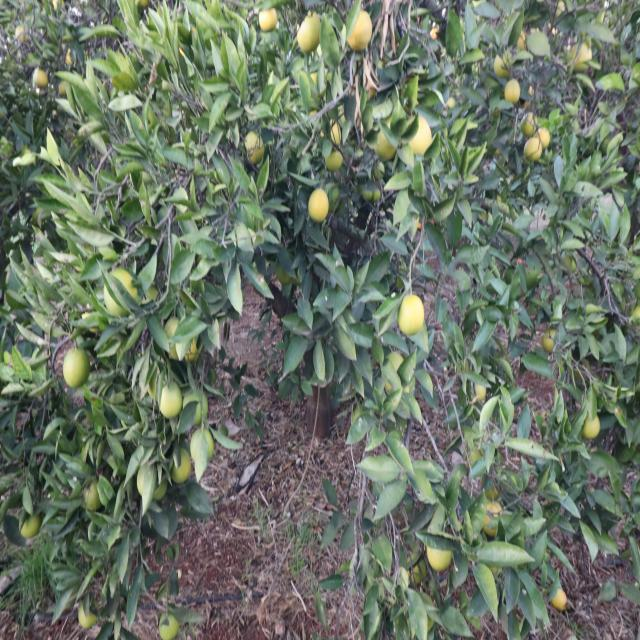Jeruk Belum Matang: (102, 268, 138, 318), (398, 114, 432, 161), (164, 316, 198, 362), (382, 352, 413, 397), (344, 8, 374, 52), (138, 458, 168, 501), (372, 114, 400, 159), (426, 528, 454, 572), (64, 348, 92, 391), (398, 294, 426, 336), (298, 10, 324, 55), (158, 378, 185, 421), (182, 386, 209, 426), (165, 446, 192, 486), (80, 473, 108, 511), (15, 504, 42, 540), (190, 427, 216, 464), (242, 130, 266, 170), (144, 364, 168, 404), (480, 499, 504, 538), (136, 282, 162, 316), (77, 311, 104, 342), (308, 187, 330, 224), (406, 550, 428, 586), (303, 66, 329, 96), (156, 610, 182, 640), (569, 41, 594, 72), (258, 4, 280, 34), (79, 598, 100, 628), (462, 444, 483, 474), (173, 38, 196, 65), (388, 568, 410, 596), (483, 548, 502, 580), (322, 120, 342, 150), (331, 98, 351, 128), (323, 146, 344, 174), (583, 410, 602, 440), (307, 104, 325, 134), (494, 51, 514, 78), (524, 134, 542, 164), (520, 109, 538, 138), (542, 326, 560, 354), (549, 586, 568, 612), (504, 78, 522, 105), (484, 474, 501, 502), (535, 125, 554, 150), (32, 66, 49, 93), (577, 264, 595, 289), (598, 130, 615, 156), (512, 27, 528, 53), (324, 181, 341, 204), (471, 378, 488, 401), (516, 84, 531, 110), (57, 76, 74, 98), (563, 250, 578, 274), (630, 300, 640, 334), (65, 47, 81, 67), (474, 206, 490, 226), (15, 25, 30, 45), (495, 190, 510, 210), (443, 96, 458, 115), (492, 142, 506, 162), (373, 160, 386, 180), (52, 0, 66, 18), (369, 184, 381, 203), (363, 182, 373, 202)
